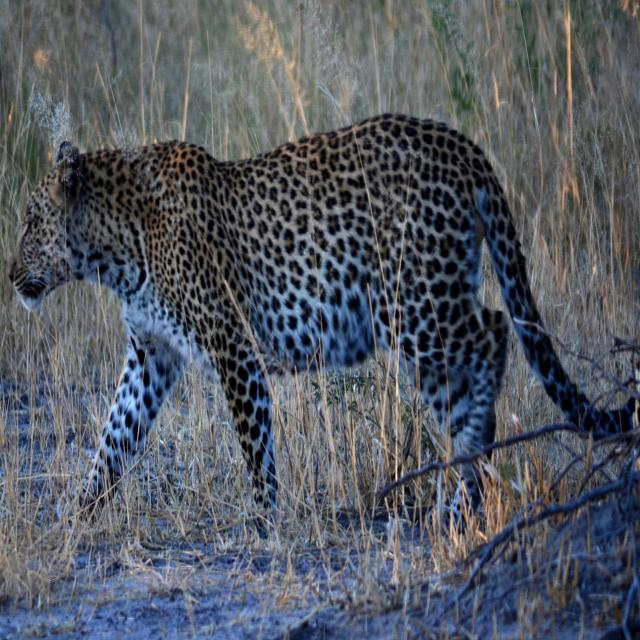Leopard: (6, 102, 633, 520)
